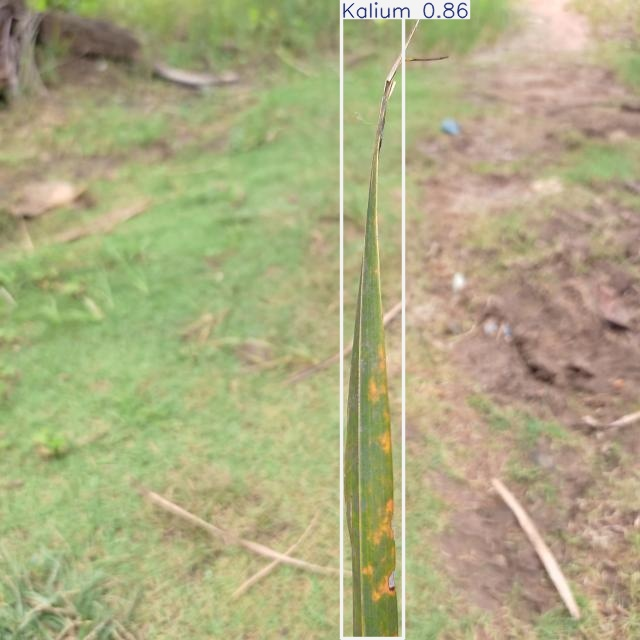Kalium: (342, 1, 403, 639)
